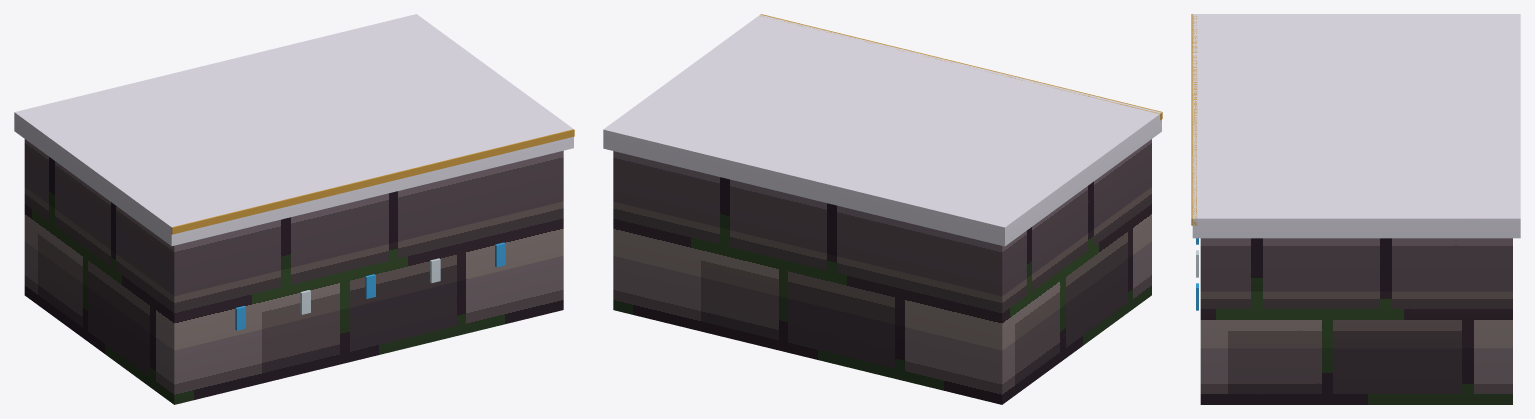
Rendered from gold_ledge.glb.
3 renders of one model, left to right at view 1: azimuth 30°, elevation 25°; view 2: azimuth 150°, elevation 25°; view 3: azimuth 270°, elevation 25°, orthographic. The views are drawn at different scales.
Parts seen in each view (by area): view 1: gold_ledge; view 2: gold_ledge; view 3: gold_ledge.
Boxes of the visible parts, bbox=[...] form: gold_ledge: bbox=[14, 14, 574, 404]; gold_ledge: bbox=[603, 14, 1162, 404]; gold_ledge: bbox=[1191, 14, 1520, 404].
Bounding box in the file's own units: 3.1 × 1.34 × 2.11.
3 materials, 1 textured.
